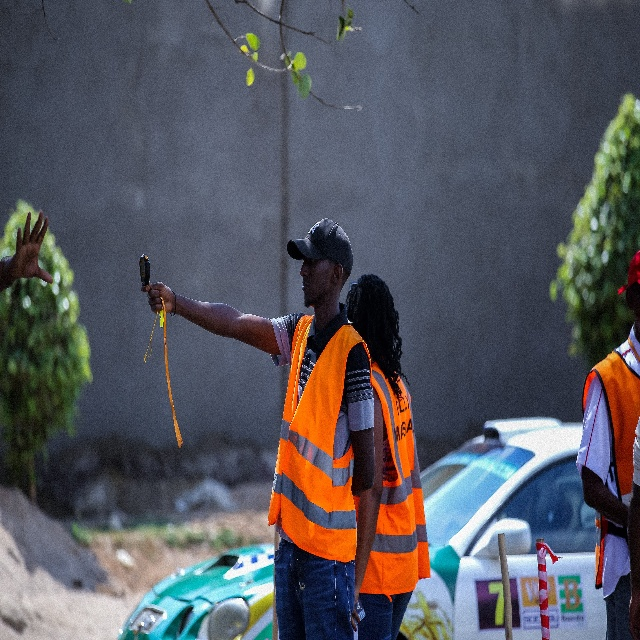Sin_guantes: (141, 280, 173, 317), (627, 588, 640, 640)
